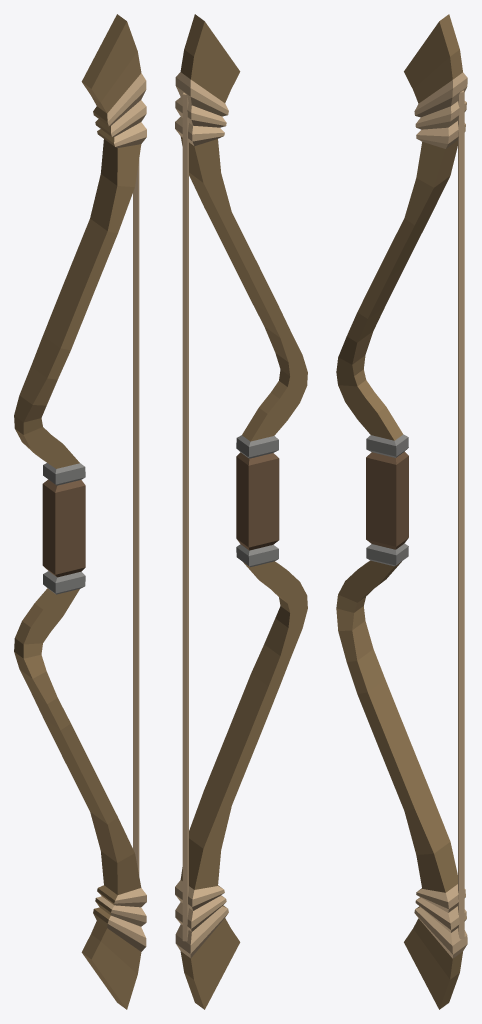
File: SM_pwe_rome_bow_01.fbx
The picture shows the model from 3 angles, left to right: view 1: azimuth 30°, elevation 25°; view 2: azimuth 210°, elevation 25°; view 3: azimuth 330°, elevation 25°; orthographic projection.
Visible parts, largest first — view 1: SM_pwe_rome_bow_01; view 2: SM_pwe_rome_bow_01; view 3: SM_pwe_rome_bow_01.
Part boxes in pixels (x1,y1,x2,y2): SM_pwe_rome_bow_01: [14, 14, 146, 1009]; SM_pwe_rome_bow_01: [175, 14, 307, 1009]; SM_pwe_rome_bow_01: [336, 14, 467, 1009].
Size of the model in its own units: 11.97 by 92.83 by 3.35.
